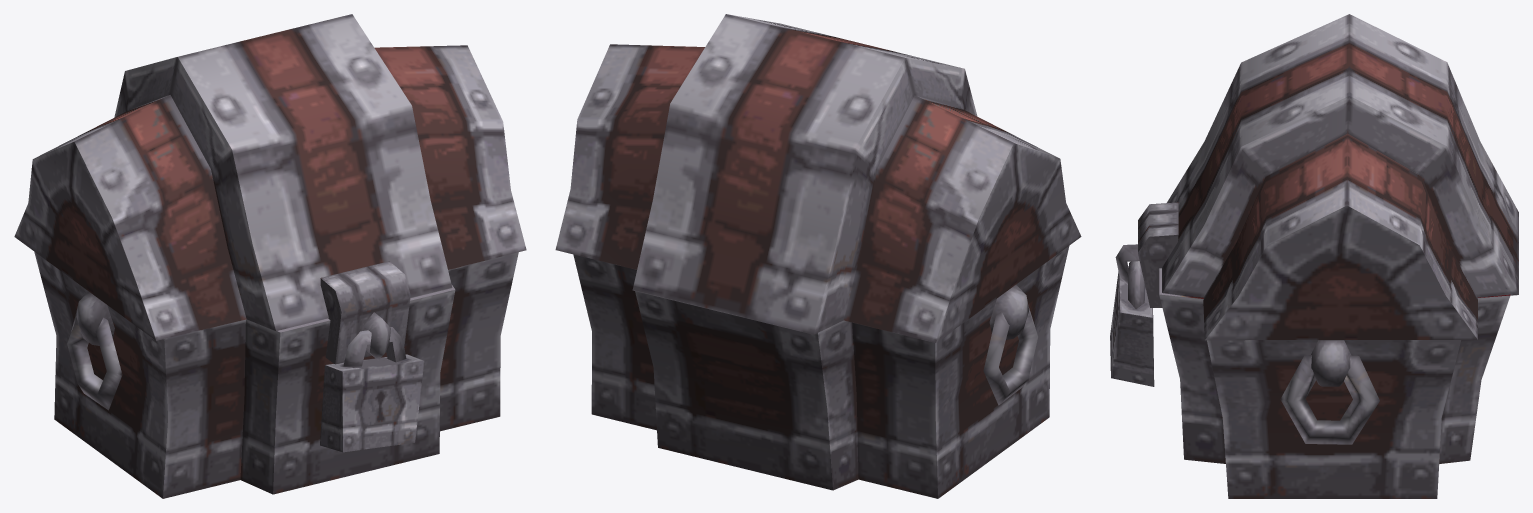
The model's file is mimic_chest_rare01_284adc55.glb.
3 renders of one model, left to right at view 1: azimuth 30°, elevation 25°; view 2: azimuth 150°, elevation 25°; view 3: azimuth 270°, elevation 25°, orthographic. The views are drawn at different scales.
Bounding box in the file's own units: 1.18 × 1.07 × 1.09.
2 materials, 2 textured.
